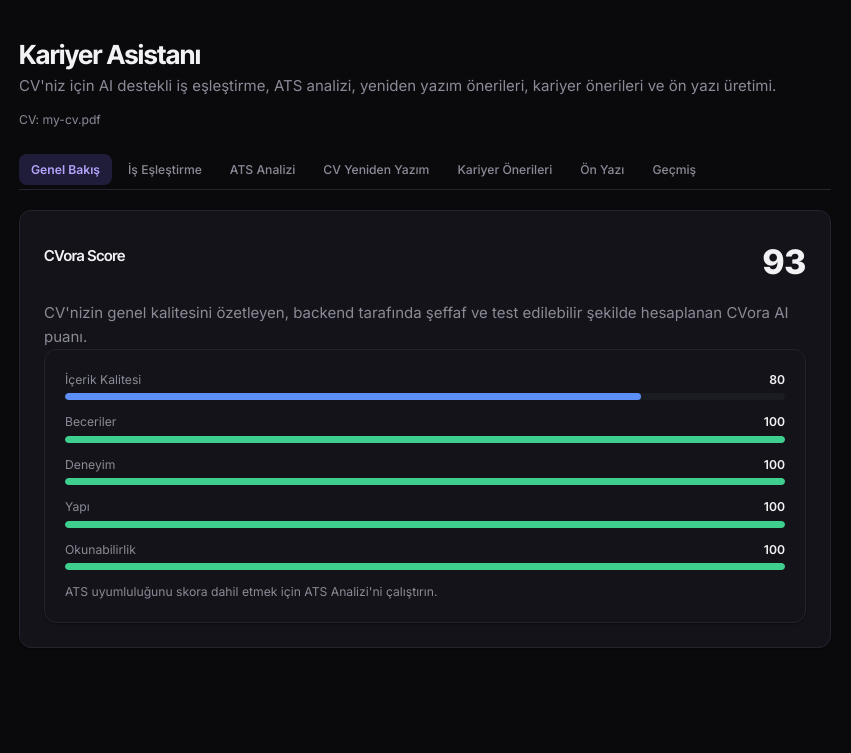
it: CareerAssistantPage › disables the Job Match submit button until a job description is entered, then shows results on success
This screenshot has width=851, height=753.
Check: the text "CV: my-cv.pdf" is shown, box [19,112,101,127]
Click the tab "İş Eşleştirme" at (165, 169), box [116,154,214,185]
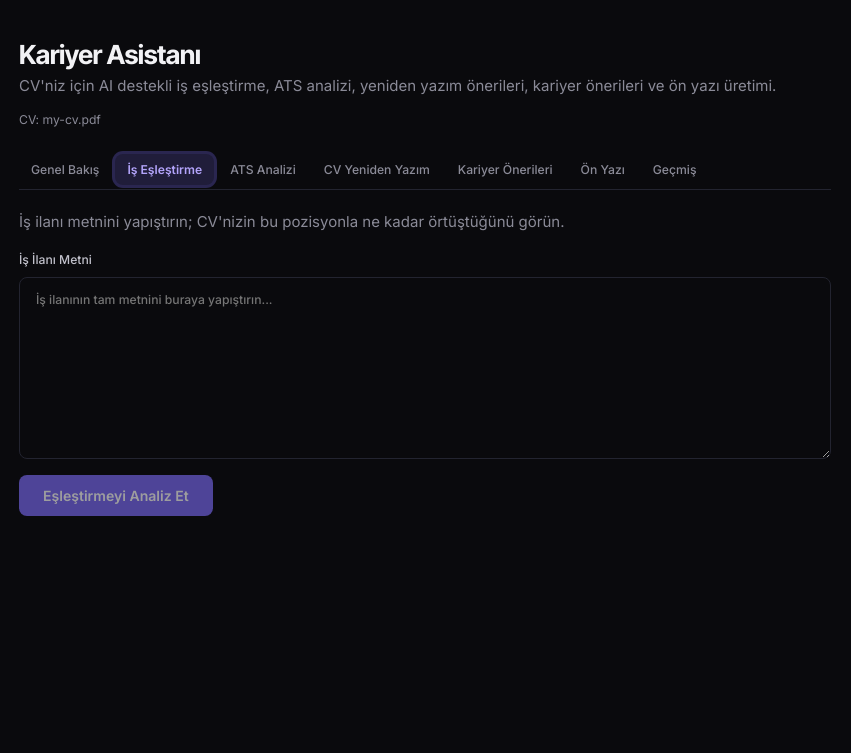
Check: the button "Eşleştirmeyi Analiz Et" is disabled, box [19,475,213,516]
Type "We need a backend developer with C# experience." into the text box labelled "İş İlanı Metni" at (425, 368), box [19,277,831,459]
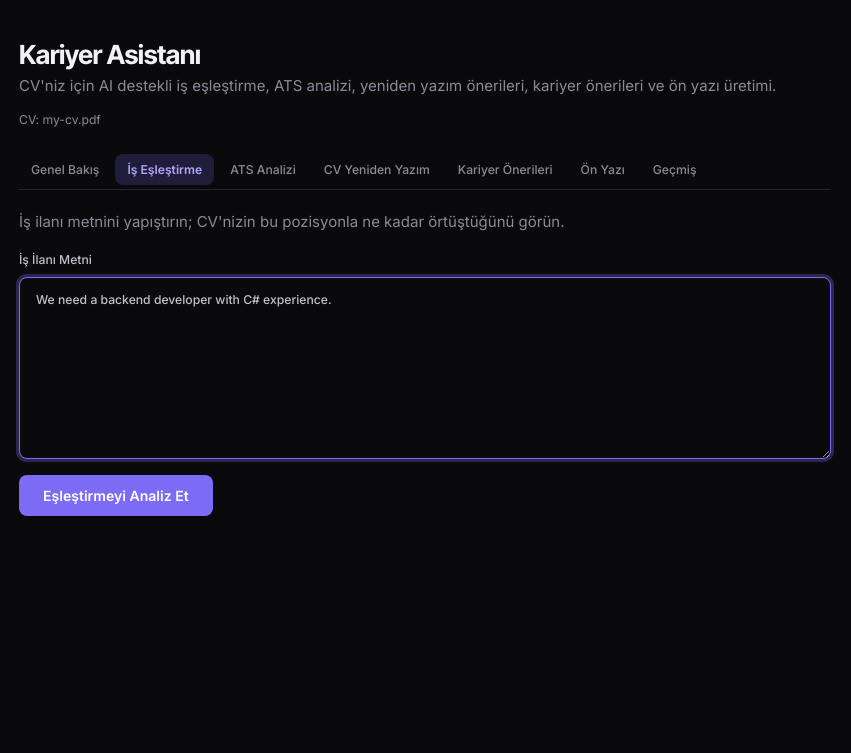
Check: the button "Eşleştirmeyi Analiz Et" is enabled
Click the button "Eşleştirmeyi Analiz Et" at (116, 496), box [19,475,213,516]
(page scrolled)
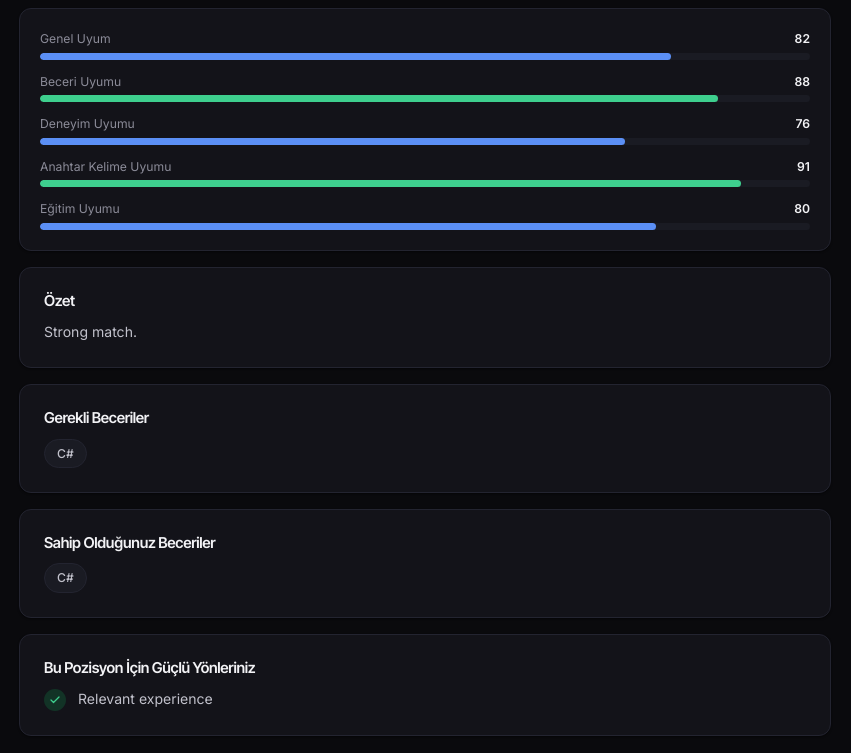
Check: the text "Strong match." is shown, box [44,323,137,340]
Check: the text "Relevant experience" is shown, box [78,688,213,711]
